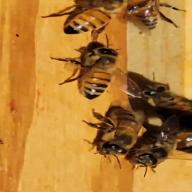Bee: (60, 42, 136, 98), (122, 120, 182, 179), (86, 106, 136, 159), (61, 0, 127, 39), (125, 0, 180, 42)
